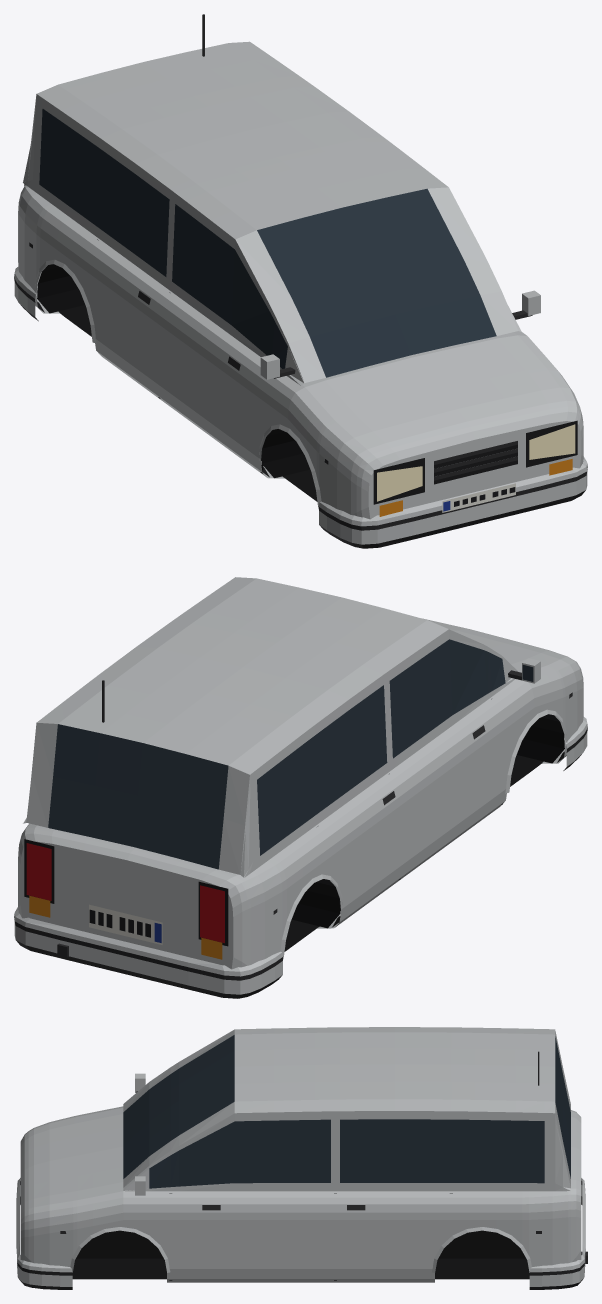
The model's file is vega-halo.glb.
3 renders of one model, top to bottom at view 1: azimuth 30°, elevation 25°; view 2: azimuth 150°, elevation 25°; view 3: azimuth 270°, elevation 25°, orthographic. The views are drawn at different scales.
Visible parts, largest first — view 1: LOD0, door_FR, door_RR; view 2: LOD0, door_FR, door_RR; view 3: LOD0, door_FL, door_RL.
Boxes of the visible parts, left/top/right/bottom form: LOD0: left=14, top=14, right=587, bottom=548; door_FR: left=157, top=194, right=274, bottom=470; door_RR: left=84, top=139, right=169, bottom=394; LOD0: left=14, top=577, right=587, bottom=998; door_FR: left=389, top=629, right=505, bottom=875; door_RR: left=314, top=675, right=402, bottom=921; LOD0: left=16, top=1027, right=587, bottom=1289; door_FL: left=170, top=1111, right=333, bottom=1278; door_RL: left=337, top=1111, right=451, bottom=1278.
Size of what is drawn, in the model's own units: 1.94 by 1.77 by 4.37.
